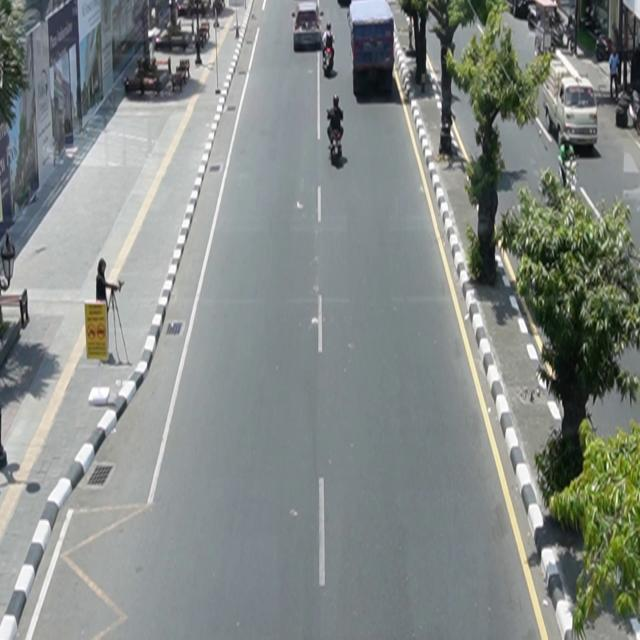bus: (348, 1, 396, 96)
